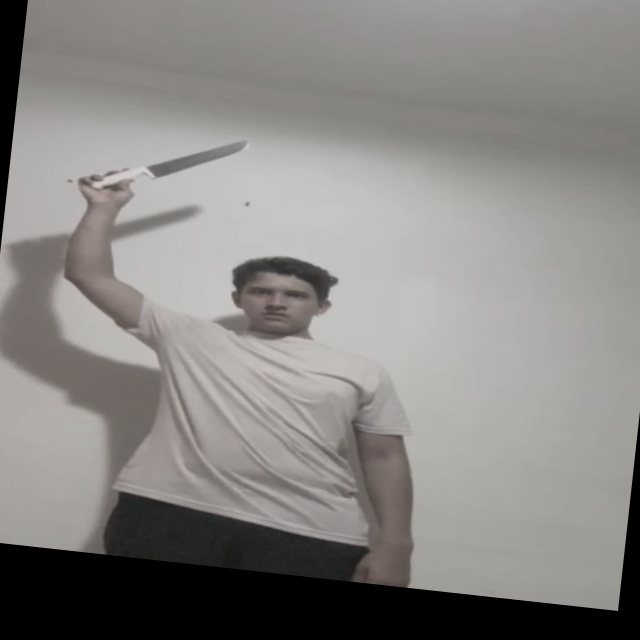Sharp-Object: (146, 127, 250, 184)
